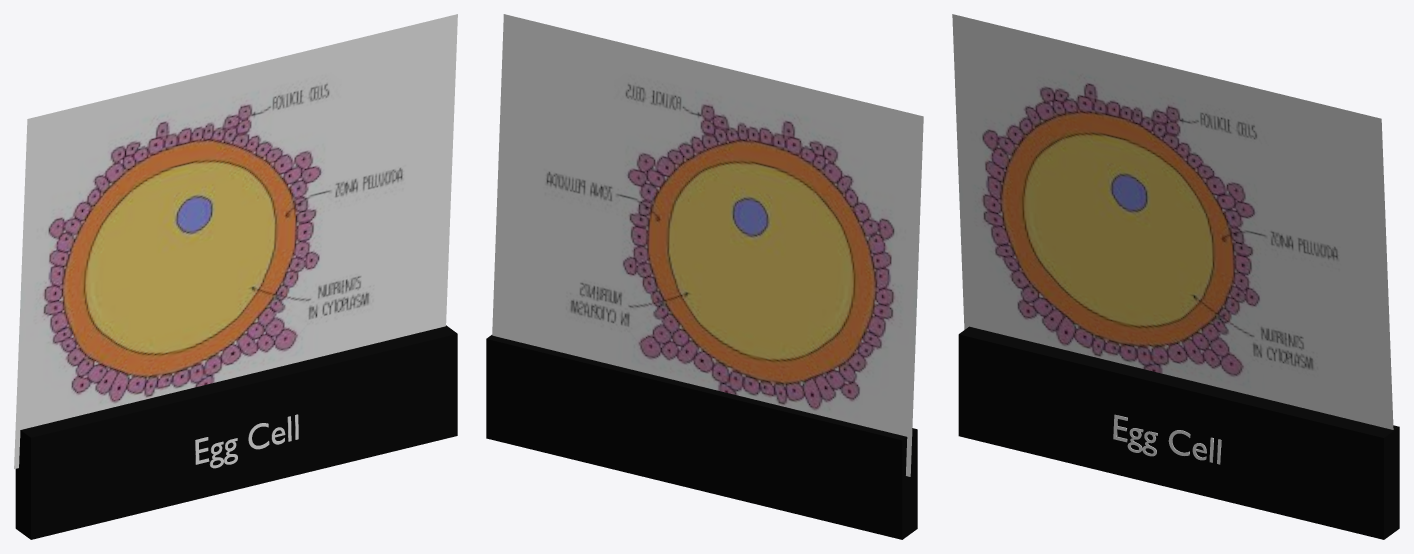
The model's file is practice.gltf.
The picture shows the model from 3 angles, left to right: view 1: azimuth 30°, elevation 25°; view 2: azimuth 150°, elevation 25°; view 3: azimuth 330°, elevation 25°; orthographic projection. The views are drawn at different scales.
Visible parts, largest first — view 1: eggy, Cube.001, Text.005; view 2: eggy, Cube.001; view 3: eggy, Cube.001, Text.005.
Boxes of the visible parts, x1,y1,x2,y2 form: eggy: (14, 14, 457, 468); Cube.001: (15, 325, 457, 539); Text.005: (195, 414, 298, 468); eggy: (492, 14, 923, 476); Cube.001: (486, 335, 917, 539); eggy: (952, 14, 1393, 429); Cube.001: (958, 326, 1399, 539); Text.005: (1113, 414, 1221, 464).
Bounding box in the file's own units: 3.38 × 3.17 × 0.2789.
2 materials, 1 textured.
